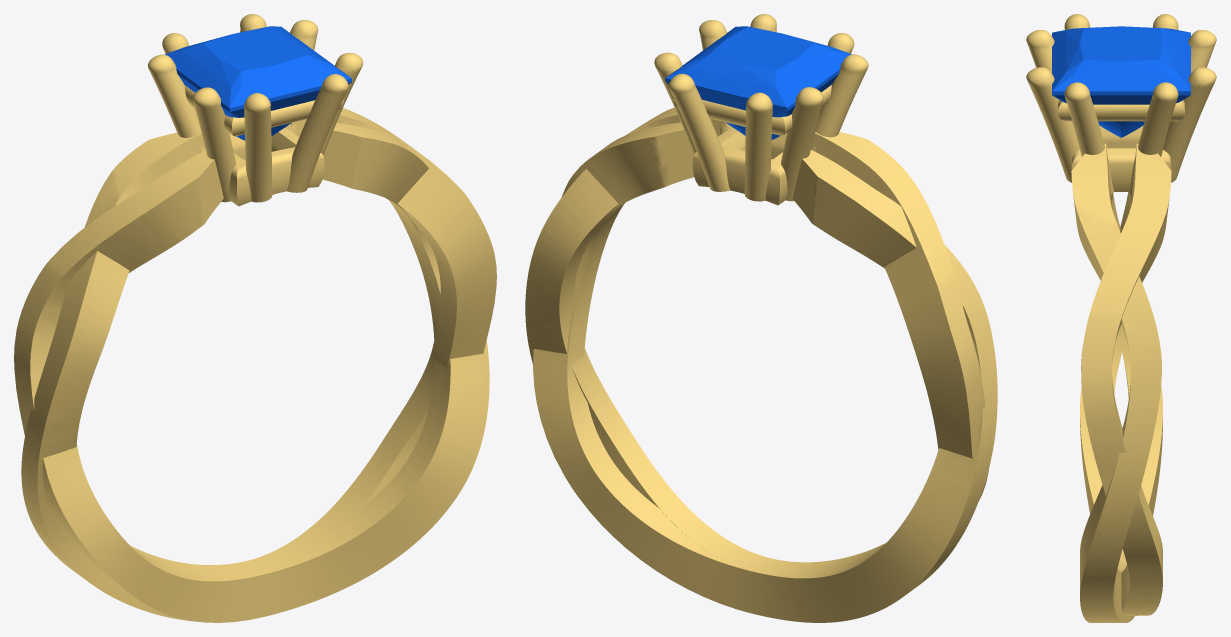
File: bluesapphire-princess-yellowgold-8prong-twist-nosidestones.glb
3 views of the same model, side by side, from view 1: azimuth 30°, elevation 25°; view 2: azimuth 150°, elevation 25°; view 3: azimuth 270°, elevation 25° (orthographic).
Parts seen in each view (by area): view 1: metal.001, stone; view 2: metal.001, stone; view 3: metal.001, stone.
Part boxes in pixels (left/top/right/bottom): metal.001: left=14, top=14, right=496, bottom=622; stone: left=165, top=26, right=351, bottom=140; metal.001: left=525, top=14, right=997, bottom=622; stone: left=665, top=26, right=851, bottom=139; metal.001: left=1026, top=14, right=1216, bottom=622; stone: left=1052, top=26, right=1190, bottom=137.
Size of the model in its own units: 19.97 by 23.76 by 7.42.
